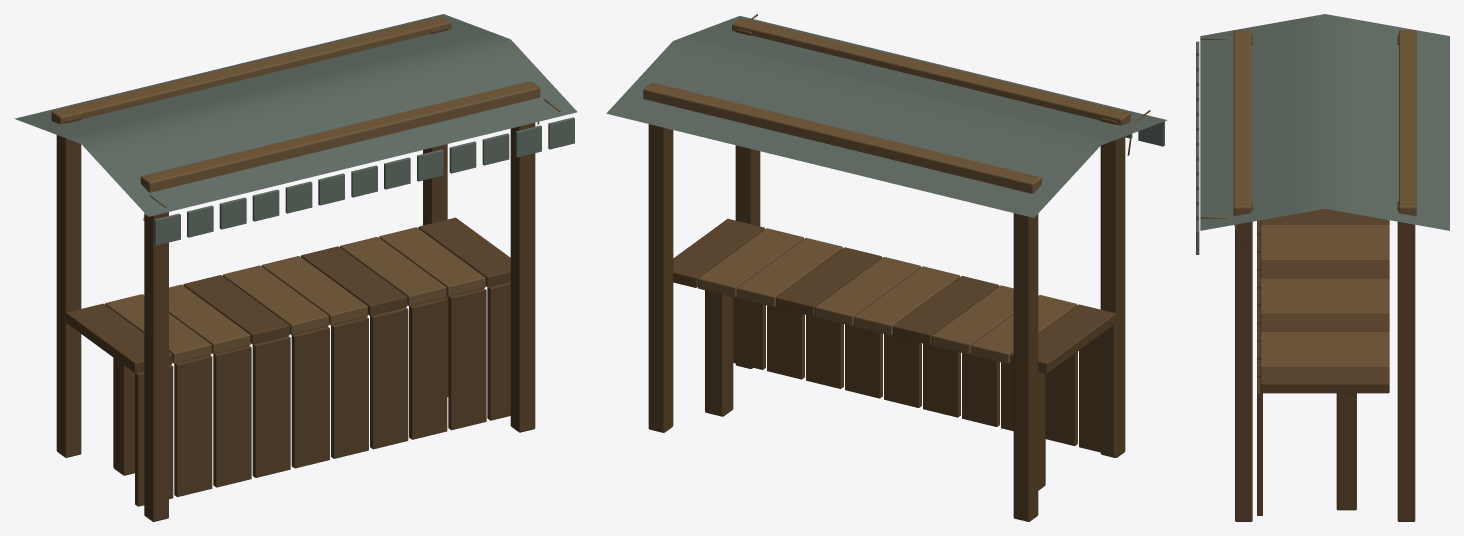
Rendered from market_stall.glb.
3 renders of one model, left to right at view 1: azimuth 30°, elevation 25°; view 2: azimuth 150°, elevation 25°; view 3: azimuth 270°, elevation 25°, orthographic. The views are drawn at different scales.
Parts seen in each view (by area): view 1: MV_market_stall; view 2: MV_market_stall; view 3: MV_market_stall.
Boxes of the visible parts, x1,y1,x2,y2 form: MV_market_stall: (14,14,577,521); MV_market_stall: (606,14,1167,521); MV_market_stall: (1196,14,1449,521).
Bounding box in the file's own units: 3.45 × 2.68 × 1.9.
